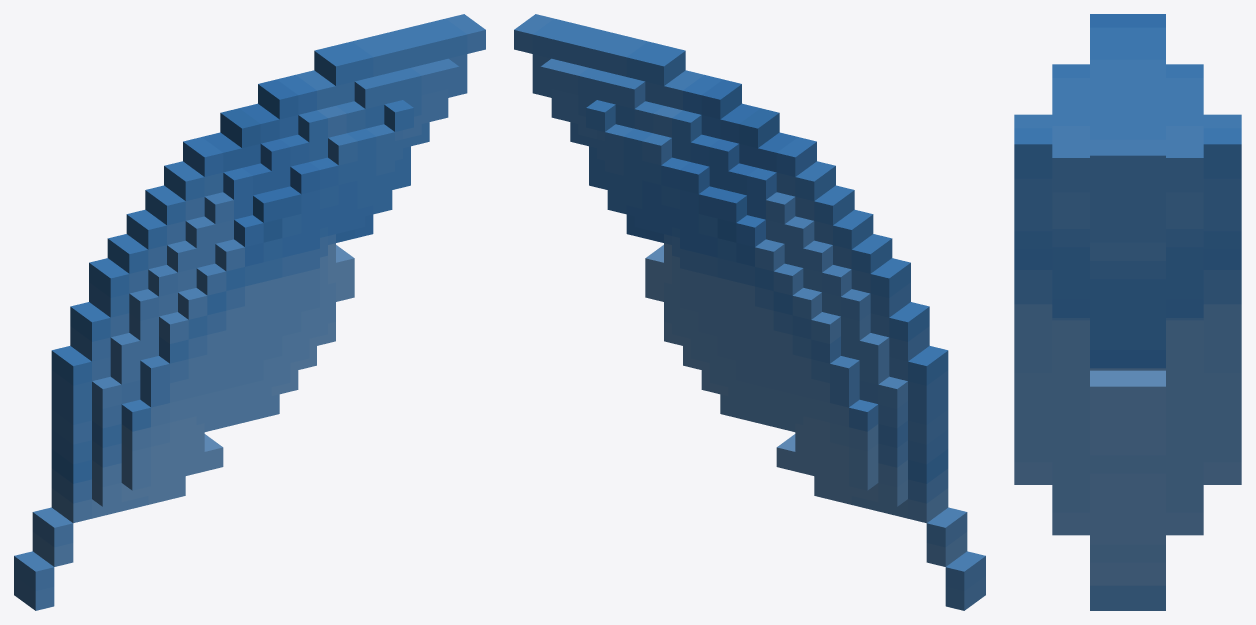
File: feather-blue.glb
The picture shows the model from 3 angles, left to right: view 1: azimuth 30°, elevation 25°; view 2: azimuth 150°, elevation 25°; view 3: azimuth 270°, elevation 25°; orthographic projection. The views are drawn at different scales.
Parts seen in each view (by area): view 1: prop; view 2: prop; view 3: prop.
Part boxes in pixels (left/top/right/bottom): prop: left=14, top=14, right=485, bottom=610; prop: left=514, top=14, right=985, bottom=610; prop: left=1014, top=14, right=1241, bottom=610.
Bounding box in the file's own units: 16 × 16 × 4.
